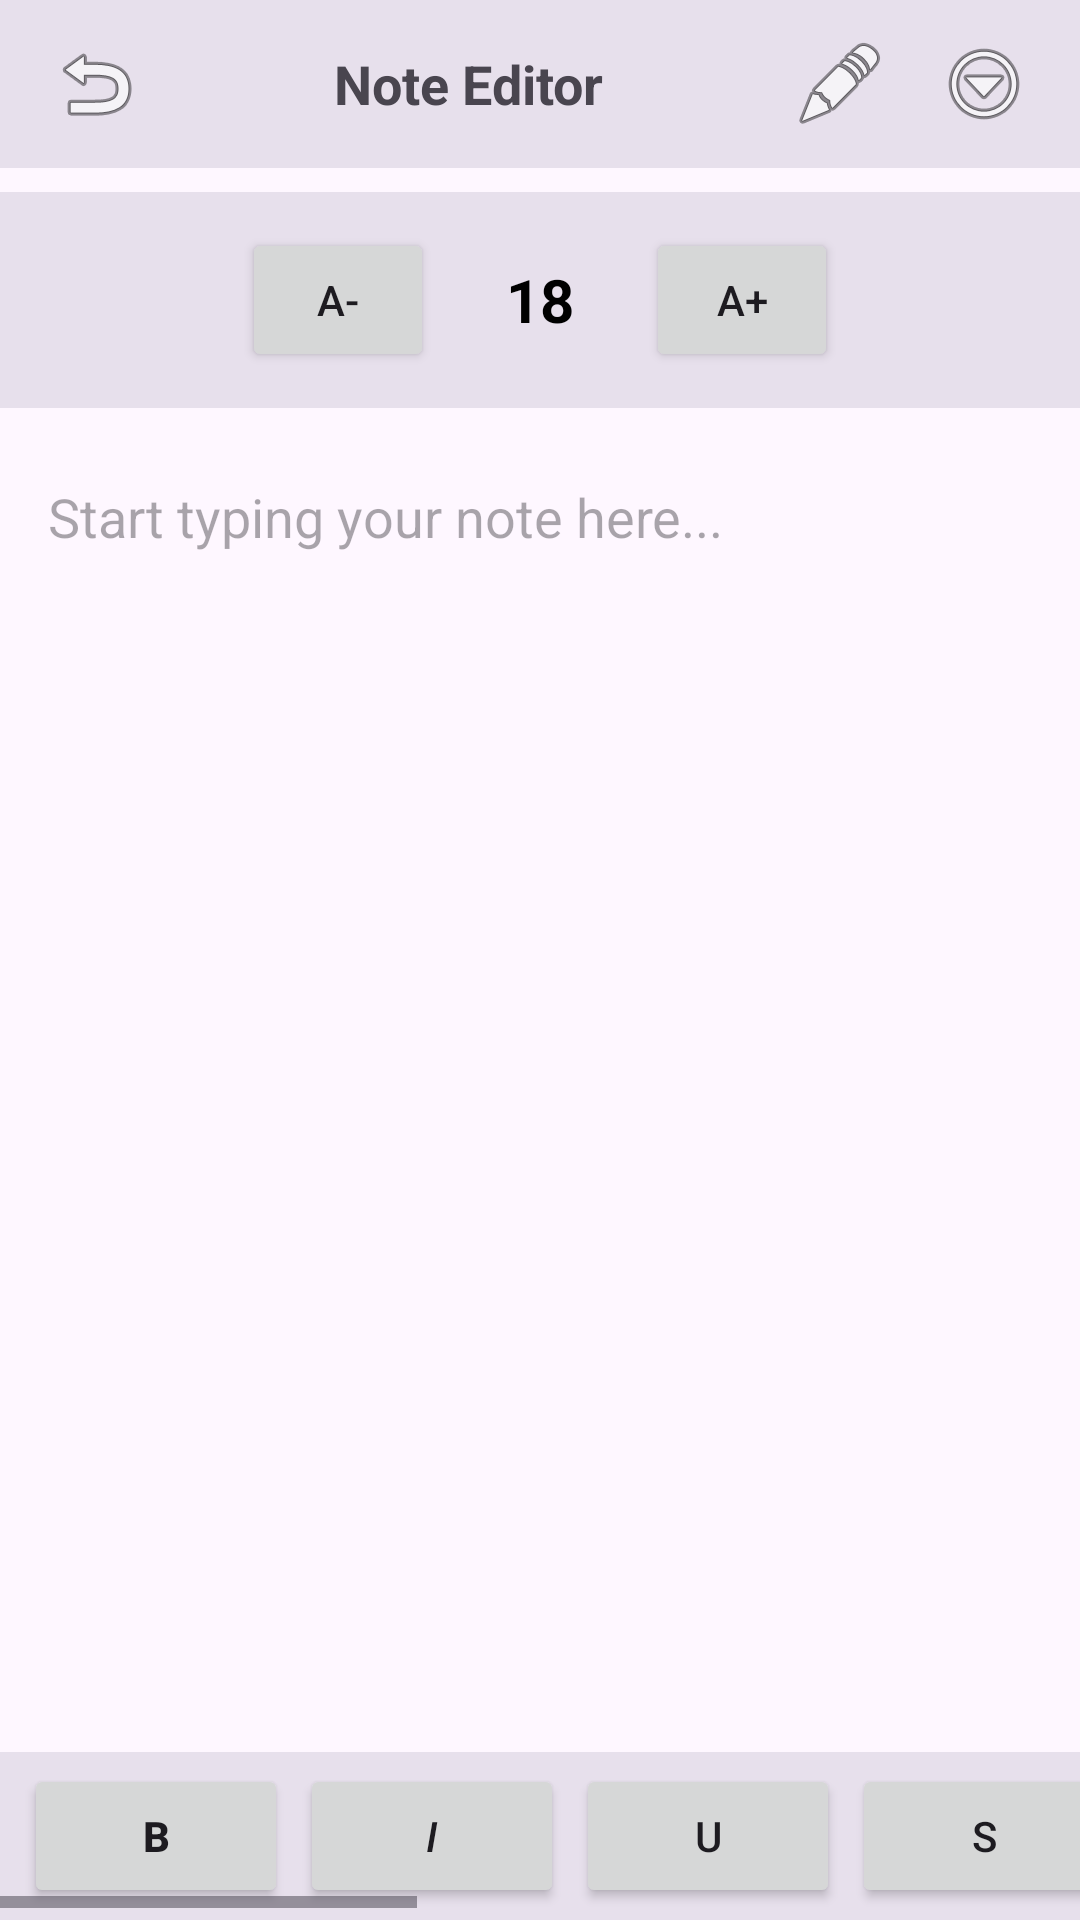

Point at icon controls on the screen. Image size 1080x1920, points as (x=x, y=y).
Go back: (x=97, y=84)
More options: (x=984, y=84)
Open advanced edit mode screen: (x=839, y=83)
